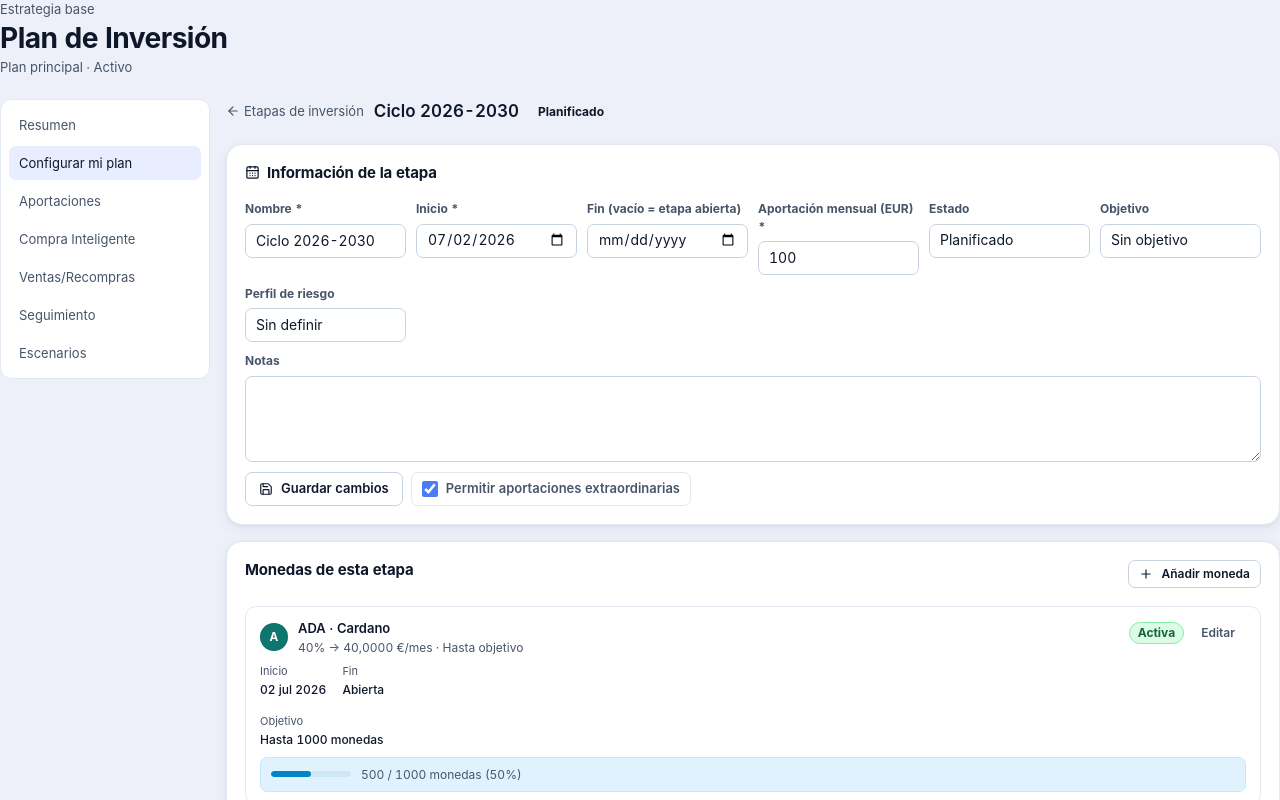
Scenario: PlanEtapaActivos — gestión de monedas › expande el formulario de edición al pulsar Editar
The image size is (1280, 800).
What coordinates should you click on to do the following:
click the button "Editar"
I would click on:
 (1218, 633)
Its box is 1190,619 -> 1246,647.
(page scrolled)
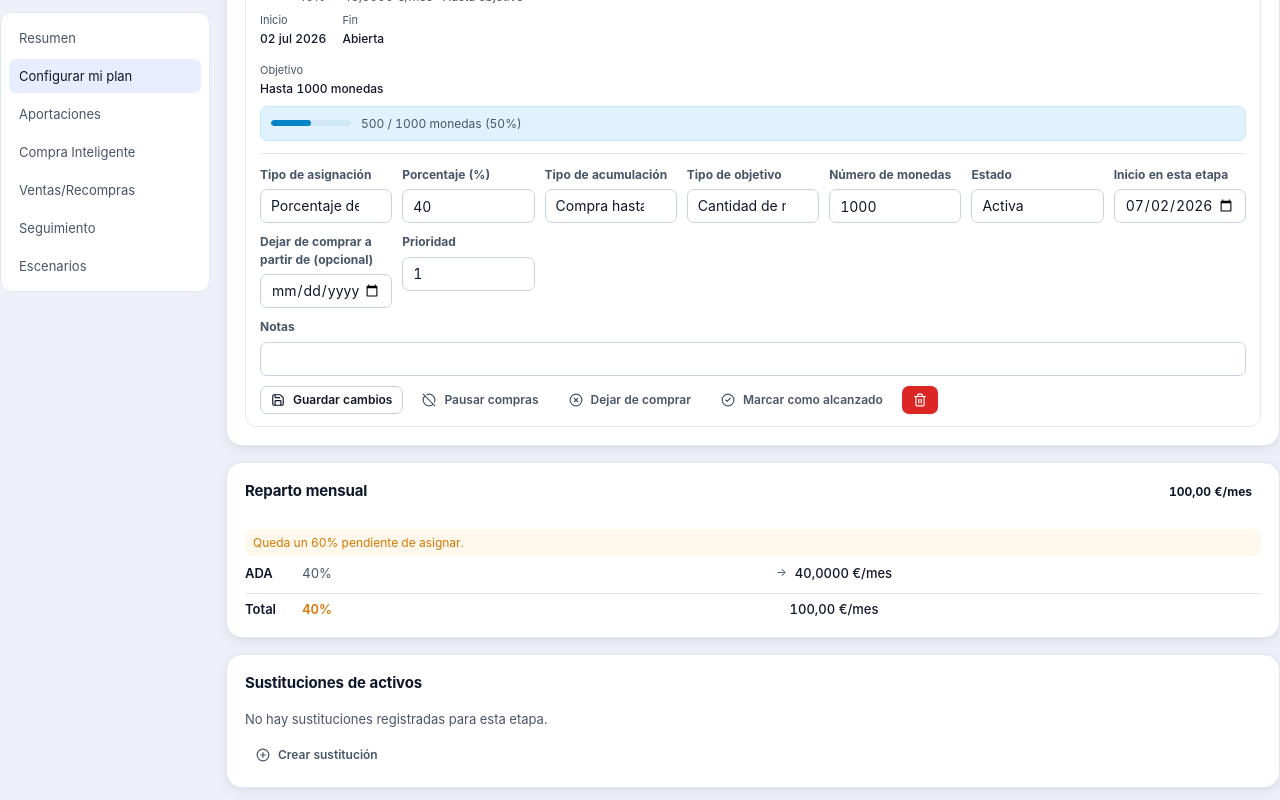
Expected: the button "Pausar compras" is shown, 411,386 -> 550,414
Expected: the number of buttons "guardar cambios" is 2
